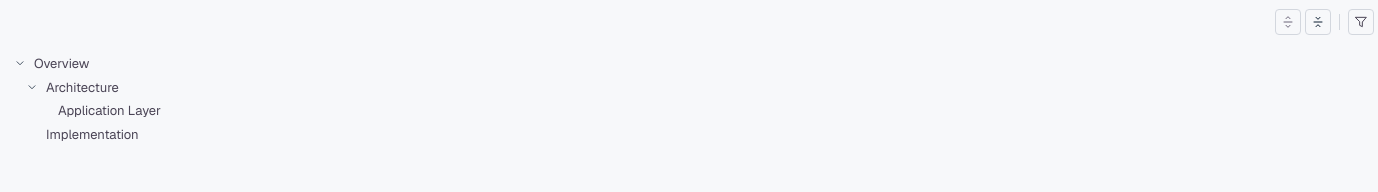
Test: 过滤命中（§10.7：按 title 子串并自动展开命中项） › 过滤视图里不摆折叠按钮，展开/折叠两枚都禁用并说明原因
Click the button named "Filter".
click(1361, 22)  # box [1348,9,1374,35]
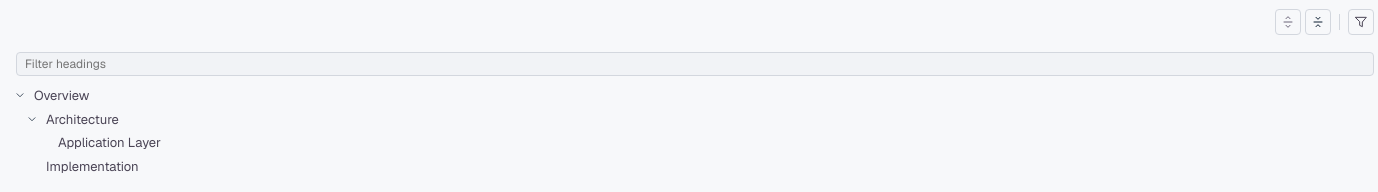
Type "a" into the field with placeholder "Filter headings".
click(695, 64); type("a")  # box [16,52,1374,76]
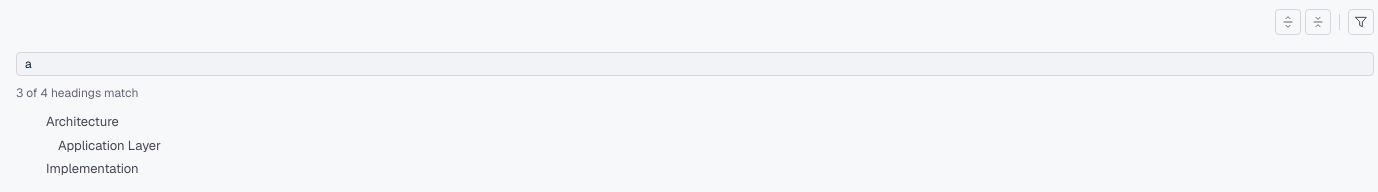
Expected: the button named "Expand all" is disabled, [1275,9,1301,35]
Result: no buttons with class "readora-outline-toggle" are shown
Result: the button named "Collapse all" is disabled at [1305,9,1331,35]
